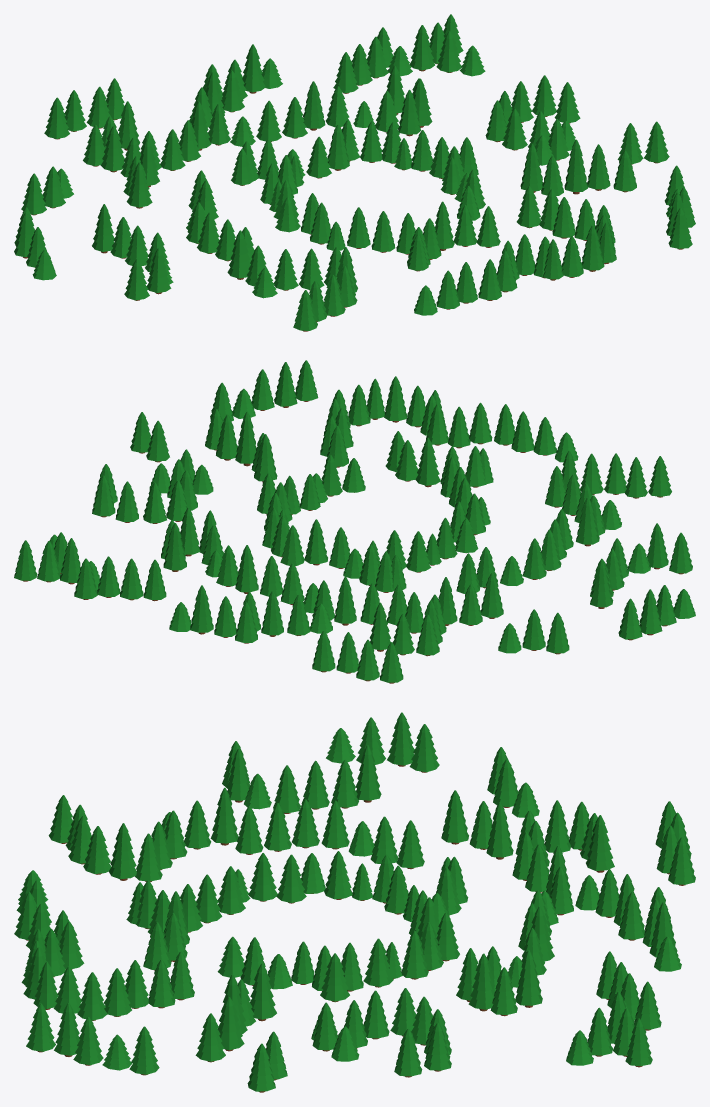
Rendered from Forest - Only Trees.fbx.
3 renders of one model, top to bottom at view 1: azimuth 30°, elevation 25°; view 2: azimuth 150°, elevation 25°; view 3: azimuth 270°, elevation 25°, orthographic. The views are drawn at different scales.
Visible parts, largest first — view 1: Pine Tree.010; view 2: Pine Tree.010; view 3: Pine Tree.010.
Part boxes in pixels (x1=…): Pine Tree.010: x1=14, y1=14, x2=695, y2=331; Pine Tree.010: x1=14, y1=360, x2=695, y2=683; Pine Tree.010: x1=14, y1=712, x2=695, y2=1092.
Bounding box in the file's own units: 4497 × 386 × 3786.
